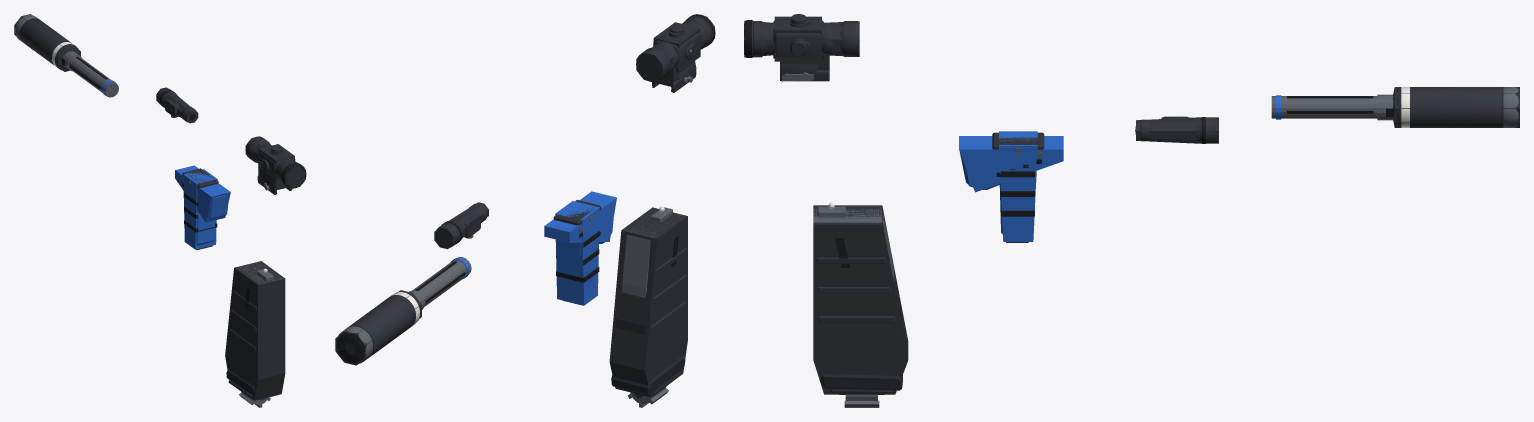
File: aeg.glb
The picture shows the model from 3 angles, left to right: view 1: azimuth 30°, elevation 25°; view 2: azimuth 150°, elevation 25°; view 3: azimuth 270°, elevation 25°; orthographic projection. The views are drawn at different scales.
Parts seen in each view (by area): view 1: magazine_hiCap_Figure, magazine_hiCap, muzzle_silencer, grip_vertical, optic_scope2x, barrel_tightBore, grip_angled, optic_scope2x_Figure, grip_vertical_Figure, light_weaponTorch, grip_angled_Figure, light_weaponTorch_Figure (+1 smaller); view 2: magazine_hiCap, magazine_hiCap_Figure, muzzle_silencer, grip_vertical_Figure, optic_scope2x, grip_vertical, magazine_lowCap, grip_angled_Figure, optic_scope2x_Figure, barrel_tightBore, muzzle_silencer_Figure, light_weaponTorch_Figure (+2 smaller); view 3: magazine_hiCap, magazine_hiCap_Figure, muzzle_silencer, optic_scope2x, grip_vertical_Figure, barrel_tightBore, grip_angled_Figure, grip_vertical, light_weaponTorch_Figure, optic_scope2x_Figure, light_weaponTorch, optic_redDot (+2 smaller).
Boxes of the visible parts, box(x1,y1,x2,y2) form: magazine_hiCap_Figure: box(225, 261, 285, 400); magazine_hiCap: box(226, 263, 280, 407); muzzle_silencer: box(15, 15, 78, 70); grip_vertical: box(182, 168, 218, 249); optic_scope2x: box(245, 136, 306, 194); barrel_tightBore: box(65, 52, 118, 97); grip_angled: box(176, 169, 228, 220); optic_scope2x_Figure: box(245, 136, 305, 188); grip_vertical_Figure: box(183, 169, 217, 249); light_weaponTorch: box(156, 88, 196, 122); grip_angled_Figure: box(175, 165, 230, 222); light_weaponTorch_Figure: box(156, 87, 198, 123); magazine_hiCap: box(611, 206, 687, 407); magazine_hiCap_Figure: box(609, 207, 687, 397); muzzle_silencer: box(337, 291, 420, 363); grip_vertical_Figure: box(555, 201, 599, 305); optic_scope2x: box(636, 14, 715, 88); grip_vertical: box(553, 200, 601, 305); magazine_lowCap: box(616, 216, 654, 334); grip_angled_Figure: box(544, 191, 616, 242); optic_scope2x_Figure: box(636, 14, 714, 82); barrel_tightBore: box(409, 257, 471, 309); muzzle_silencer_Figure: box(335, 290, 421, 365); light_weaponTorch_Figure: box(434, 202, 488, 249); magazine_hiCap: box(816, 202, 903, 407); magazine_hiCap_Figure: box(813, 205, 908, 394); muzzle_silencer: box(1397, 87, 1518, 127); optic_scope2x: box(744, 14, 859, 81); grip_vertical_Figure: box(999, 131, 1037, 241); barrel_tightBore: box(1271, 94, 1390, 120); grip_angled_Figure: box(959, 136, 1063, 192); grip_vertical: box(992, 132, 1044, 242); light_weaponTorch_Figure: box(1136, 117, 1218, 143); optic_scope2x_Figure: box(744, 16, 859, 64); light_weaponTorch: box(1135, 116, 1218, 143); optic_redDot: box(783, 18, 832, 81).
Size of the model in its own units: 0.0871 by 0.3991 by 0.7192.
